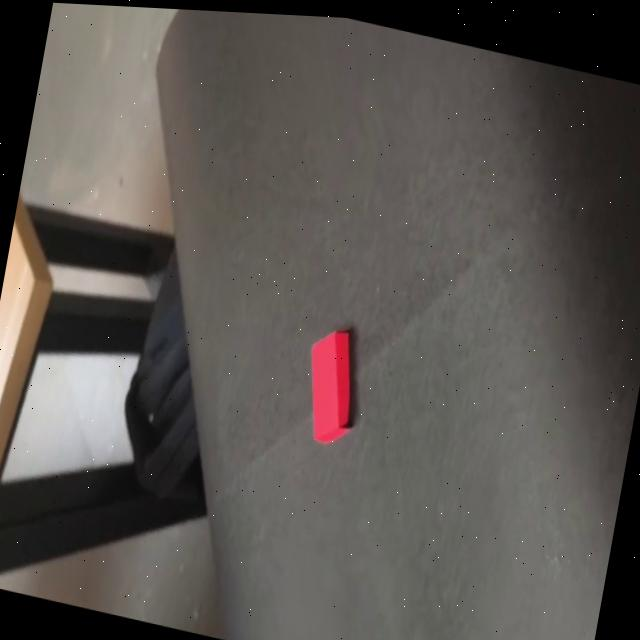red block: (294, 320, 368, 450)
